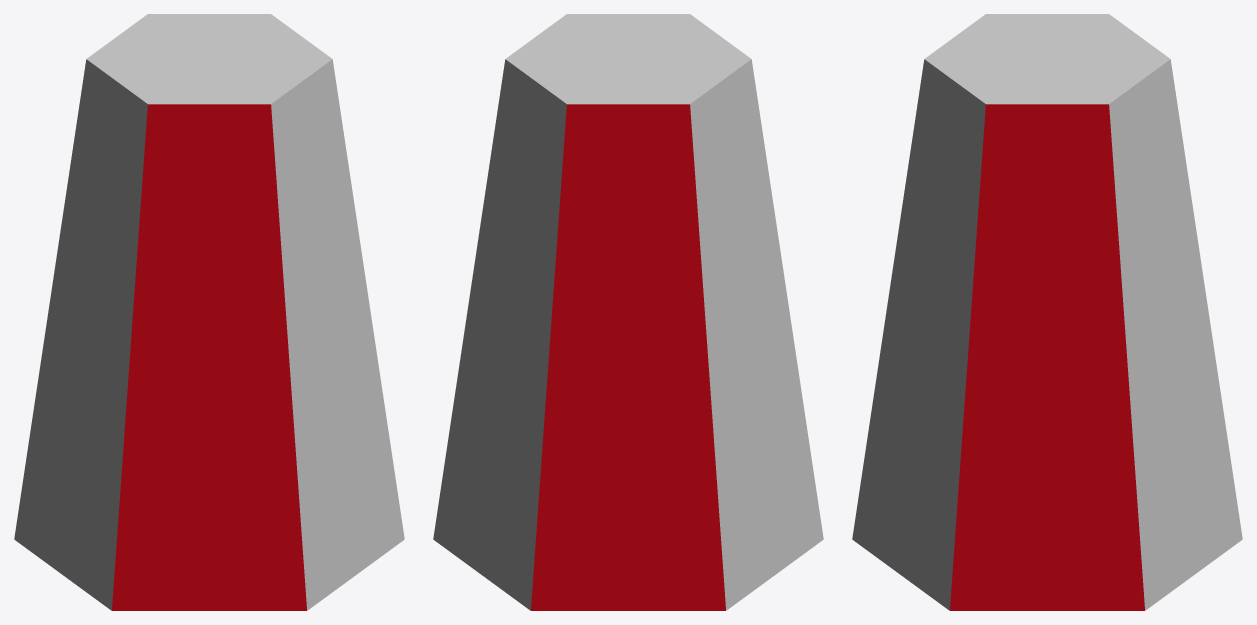
File: heltaskelter1.fbx
The picture shows the model from 3 angles, left to right: view 1: azimuth 30°, elevation 25°; view 2: azimuth 150°, elevation 25°; view 3: azimuth 270°, elevation 25°; orthographic projection.
Visible parts, largest first — view 1: Cylinder; view 2: Cylinder; view 3: Cylinder.
Boxes of the visible parts, box(x1,y1,x2,y2) form: Cylinder: box(14, 14, 404, 610); Cylinder: box(433, 14, 823, 610); Cylinder: box(852, 14, 1242, 610).
Bounding box in the file's own units: 497 × 779 × 574.
